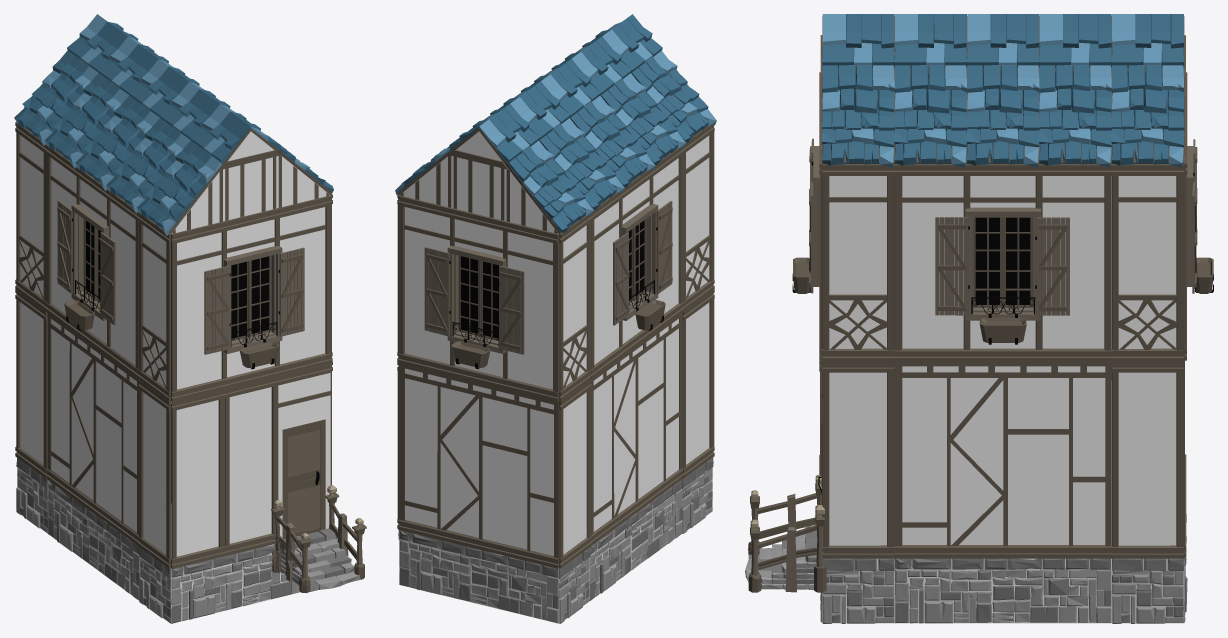
File: house_08_full.fbx
3 views of the same model, side by side, from view 1: azimuth 30°, elevation 25°; view 2: azimuth 150°, elevation 25°; view 3: azimuth 270°, elevation 25° (orthographic). The views are drawn at different scales.
Visible parts, largest first — view 1: WINDOW_05_2, WINDOW_05_4, WALL_05_2, WALL_03_4, WALL_03_3, DOOR_01_3, FOUNDATION_02_16, STAIRS_06_2, WALL_04_6, WALL_03_5, WALL_03_6, WALL_04_5 (+18 smaller); view 2: WINDOW_05_5, WALL_05_3, WINDOW_05_4, WALL_05_2, FOUNDATION_02_18, WALL_04_5, WALL_03_6, WALL_03_5, WALL_04_6, FOUNDATION_02_19, ROOF_base_12, ROOF_base_11 (+15 smaller); view 3: WINDOW_05_3, WALL_05_4, WALL_04_4, WALL_04_3, FOUNDATION_02_17, WALL_03_8, WALL_03_7, ROOF_base_7, ROOF_base_3, ROOF_base_6, ROOF_base_4, ROOF_base_5 (+10 smaller).
Boxes of the visible parts, x1=… form: WINDOW_05_2: x1=171, y1=195, x2=331, y2=401; WINDOW_05_4: x1=46, y1=144, x2=139, y2=378; WALL_05_2: x1=46, y1=313, x2=139, y2=545; WALL_03_4: x1=171, y1=389, x2=225, y2=568; WALL_03_3: x1=224, y1=376, x2=278, y2=555; DOOR_01_3: x1=278, y1=363, x2=331, y2=539; FOUNDATION_02_16: x1=171, y1=544, x2=300, y2=623; STAIRS_06_2: x1=271, y1=485, x2=366, y2=593; WALL_04_6: x1=138, y1=212, x2=170, y2=401; WALL_03_5: x1=138, y1=379, x2=170, y2=568; WALL_03_6: x1=15, y1=289, x2=47, y2=478; WALL_04_5: x1=15, y1=122, x2=47, y2=311; WINDOW_05_5: x1=398, y1=195, x2=558, y2=401; WALL_05_3: x1=398, y1=363, x2=558, y2=568; WINDOW_05_4: x1=590, y1=147, x2=683, y2=378; WALL_05_2: x1=590, y1=313, x2=683, y2=545; FOUNDATION_02_18: x1=399, y1=530, x2=559, y2=623; WALL_04_5: x1=559, y1=215, x2=591, y2=401; WALL_03_6: x1=559, y1=379, x2=591, y2=568; WALL_03_5: x1=682, y1=289, x2=714, y2=478; WALL_04_6: x1=682, y1=125, x2=714, y2=311; FOUNDATION_02_19: x1=589, y1=480, x2=682, y2=600; ROOF_base_12: x1=506, y1=140, x2=593, y2=233; ROOF_base_11: x1=539, y1=118, x2=624, y2=209; WINDOW_05_3: x1=894, y1=164, x2=1111, y2=361; WALL_05_4: x1=894, y1=362, x2=1111, y2=558; WALL_04_4: x1=1112, y1=164, x2=1184, y2=361; WALL_04_3: x1=822, y1=164, x2=894, y2=361; FOUNDATION_02_17: x1=894, y1=558, x2=1111, y2=623; WALL_03_8: x1=1112, y1=362, x2=1184, y2=558; WALL_03_7: x1=822, y1=362, x2=894, y2=558; ROOF_base_7: x1=1111, y1=63, x2=1184, y2=167; ROOF_base_3: x1=821, y1=65, x2=894, y2=167; ROOF_base_6: x1=1038, y1=65, x2=1111, y2=167; ROOF_base_4: x1=894, y1=65, x2=967, y2=167; ROOF_base_5: x1=966, y1=65, x2=1039, y2=167.
Size of the model in its own units: 382 by 859 by 648.
